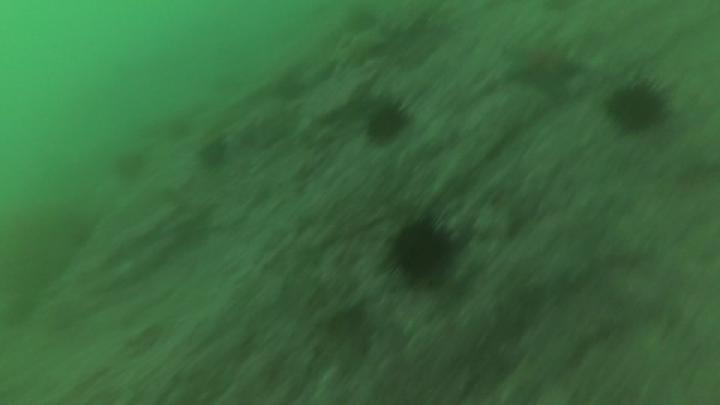echinus: (393, 227, 452, 283), (613, 85, 665, 130), (370, 111, 410, 144), (198, 139, 228, 170)
starfish: (510, 43, 582, 96)
